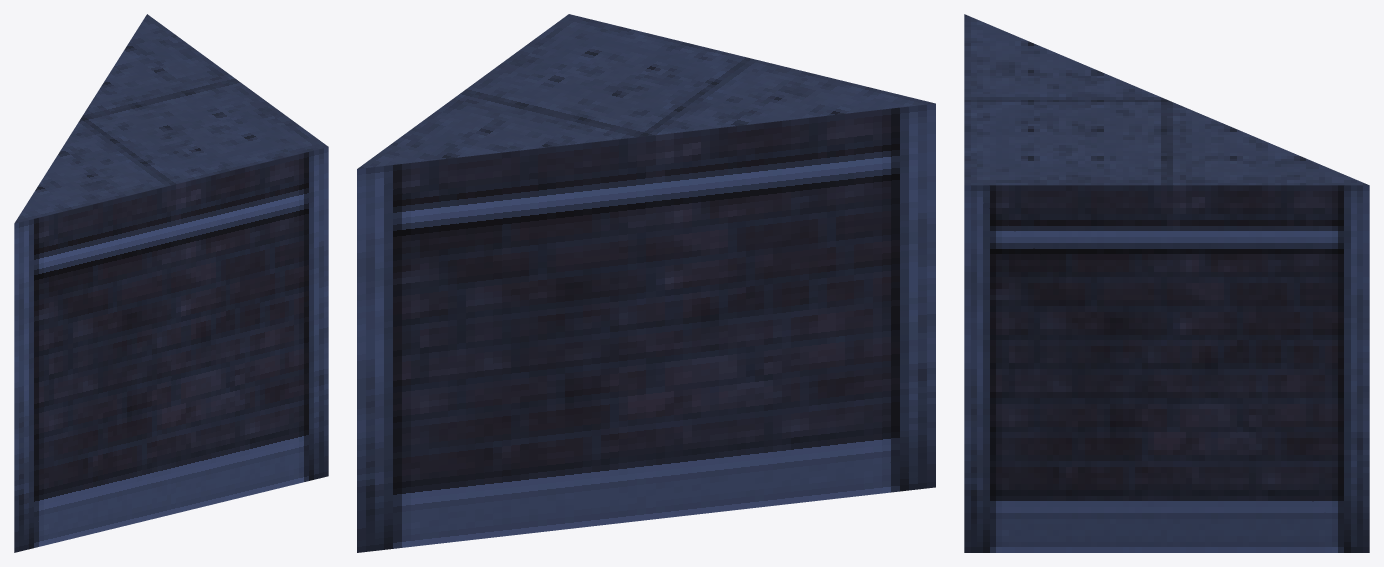
3 renders of one model, left to right at view 1: azimuth 30°, elevation 25°; view 2: azimuth 150°, elevation 25°; view 3: azimuth 270°, elevation 25°, orthographic. The views are drawn at different scales.
Parts seen in each view (by area): view 1: wall-a-diagonal; view 2: wall-a-diagonal; view 3: wall-a-diagonal.
Boxes of the visible parts, x1,y1,x2,y2 form: wall-a-diagonal: [14, 14, 328, 552]; wall-a-diagonal: [357, 14, 935, 552]; wall-a-diagonal: [964, 14, 1369, 552].
Bounding box in the file's own units: 1 × 1 × 1.
2 materials, 2 textured.
